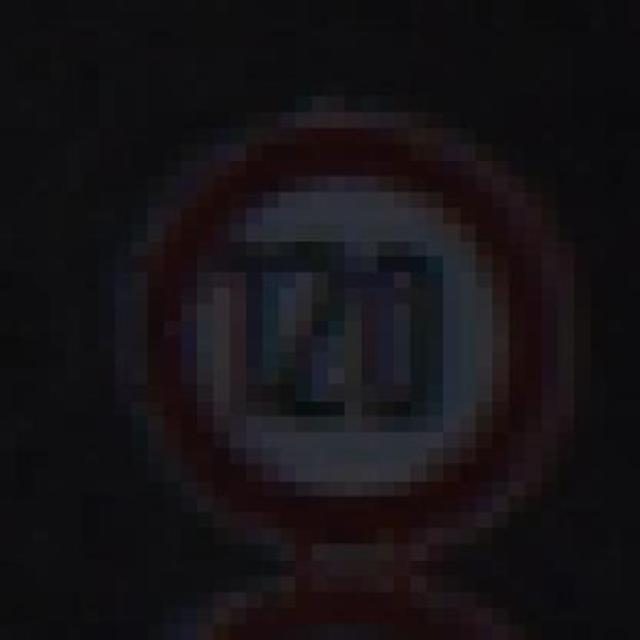forb_speed_over_120: (139, 126, 556, 557)
